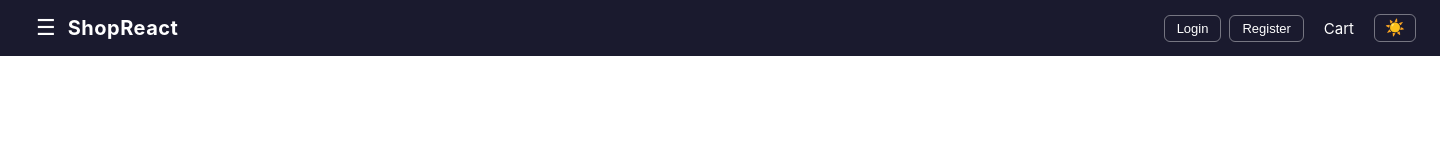
Test case: Navbar theme toggle — moon/sun display (criteria 1 & 2) › criterion 2: clicking the sun button switches display to moon (🌙)
Click the button named "toggle theme": (1395, 28) [1374,14,1416,42]
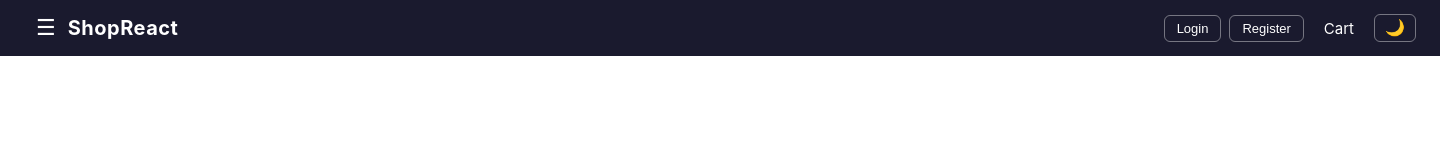
Now the button named "toggle theme" reads "🌙", box [1374,14,1416,42]
